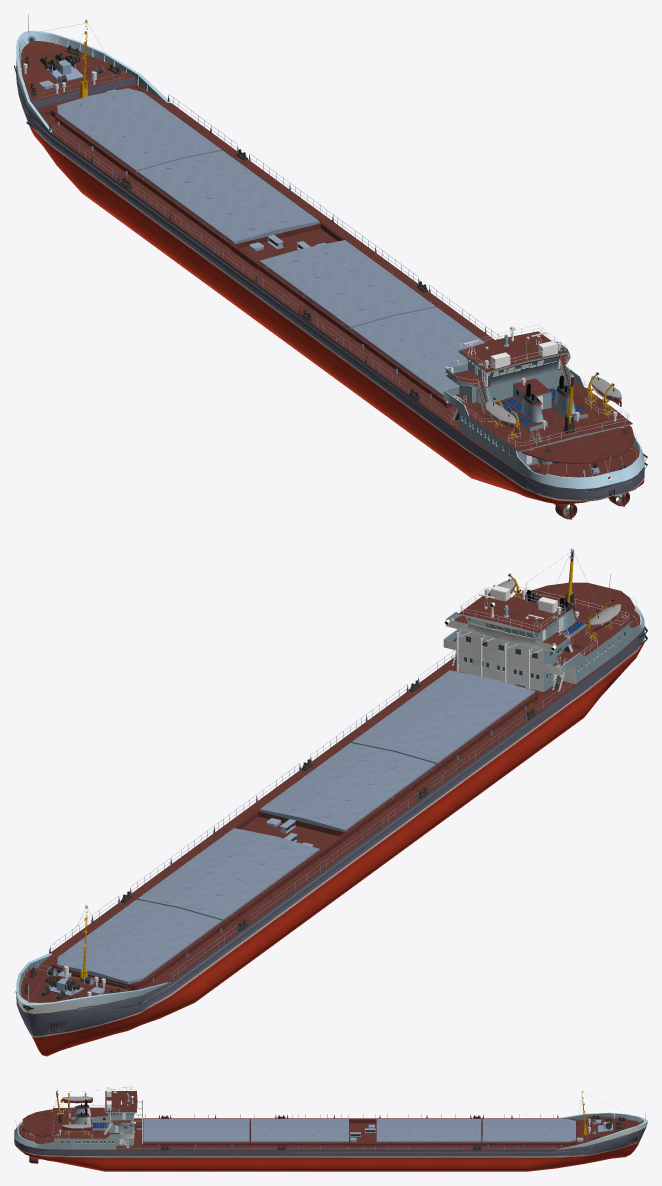
The model's file is VolgoDon507B_LOD2.fbx.
3 renders of one model, top to bottom at view 1: azimuth 30°, elevation 25°; view 2: azimuth 150°, elevation 25°; view 3: azimuth 270°, elevation 25°, orthographic. The views are drawn at different scales.
Parts seen in each view (by area): view 1: LOD2__VD507B_deck, LOD2__VD507B_hull, LOD2__VD507B_rubka, LOD2__Panel_ForeInner, LOD2__Panel_AftInner, LOD2__Panel_ForeOuter, LOD2__Panel_AftOuter, LOD2__VD507B_detali, LOD2__VD507B_pipes, LOD2__VD507B_hull_detali, LOD2__VD507B_boats, LOD2__VD507B_rubka_detali; view 2: LOD2__VD507B_deck, LOD2__VD507B_hull, LOD2__VD507B_rubka, LOD2__Panel_AftOuter, LOD2__Panel_ForeInner, LOD2__Panel_AftInner, LOD2__Panel_ForeOuter, LOD2__VD507B_detali, LOD2__VD507B_pipes, LOD2__VD507B_hull_detali, LOD2__VD507B_rubka_detali, LOD2__VD507B_boats; view 3: LOD2__VD507B_hull, LOD2__VD507B_deck, LOD2__VD507B_rubka, LOD2__Panel_AftOuter, LOD2__Panel_ForeInner, LOD2__Panel_AftInner, LOD2__Panel_ForeOuter, LOD2__VD507B_pipes, LOD2__VD507B_detali, LOD2__VD507B_hull_detali, LOD2__VD507B_boats, LOD2__HatchRail_-1 (+2 smaller).
Part boxes in pixels (x1=…): LOD2__VD507B_deck: x1=20, y1=40, x2=639, y2=479; LOD2__VD507B_hull: x1=16, y1=66, x2=644, y2=504; LOD2__VD507B_rubka: x1=16, y1=31, x2=644, y2=488; LOD2__Panel_ForeInner: x1=137, y1=150, x2=319, y2=244; LOD2__Panel_AftInner: x1=259, y1=240, x2=435, y2=329; LOD2__Panel_ForeOuter: x1=57, y1=88, x2=221, y2=172; LOD2__Panel_AftOuter: x1=351, y1=307, x2=485, y2=399; LOD2__VD507B_detali: x1=19, y1=19, x2=626, y2=477; LOD2__VD507B_pipes: x1=28, y1=14, x2=640, y2=476; LOD2__VD507B_hull_detali: x1=14, y1=65, x2=647, y2=505; LOD2__VD507B_boats: x1=485, y1=372, x2=621, y2=439; LOD2__VD507B_rubka_detali: x1=444, y1=326, x2=582, y2=464; LOD2__VD507B_deck: x1=20, y1=582, x2=640, y2=1002; LOD2__VD507B_hull: x1=16, y1=627, x2=644, y2=1056; LOD2__VD507B_rubka: x1=16, y1=595, x2=644, y2=1013; LOD2__Panel_AftOuter: x1=351, y1=670, x2=535, y2=764; LOD2__Panel_ForeInner: x1=137, y1=828, x2=319, y2=921; LOD2__Panel_AftInner: x1=259, y1=743, x2=435, y2=832; LOD2__Panel_ForeOuter: x1=57, y1=899, x2=221, y2=984; LOD2__VD507B_detali: x1=19, y1=548, x2=623, y2=1001; LOD2__VD507B_pipes: x1=28, y1=551, x2=640, y2=1003; LOD2__VD507B_hull_detali: x1=14, y1=626, x2=647, y2=1042; LOD2__VD507B_rubka_detali: x1=444, y1=585, x2=582, y2=689; LOD2__VD507B_boats: x1=489, y1=573, x2=621, y2=640; LOD2__VD507B_hull: x1=14, y1=1127, x2=645, y2=1171; LOD2__VD507B_deck: x1=18, y1=1091, x2=640, y2=1150; LOD2__VD507B_rubka: x1=14, y1=1091, x2=647, y2=1149; LOD2__Panel_AftOuter: x1=143, y1=1119, x2=249, y2=1142; LOD2__Panel_ForeInner: x1=376, y1=1119, x2=481, y2=1142; LOD2__Panel_AftInner: x1=251, y1=1119, x2=348, y2=1142; LOD2__Panel_ForeOuter: x1=482, y1=1119, x2=575, y2=1142; LOD2__VD507B_pipes: x1=15, y1=1087, x2=645, y2=1149; LOD2__VD507B_detali: x1=21, y1=1087, x2=640, y2=1150; LOD2__VD507B_hull_detali: x1=14, y1=1114, x2=646, y2=1158; LOD2__VD507B_boats: x1=60, y1=1093, x2=92, y2=1135; LOD2__HatchRail_-1: x1=144, y1=1118, x2=575, y2=1119.
Bounding box in the file's own units: 16.71 × 16.1 × 138.
11 materials, 8 textured.
